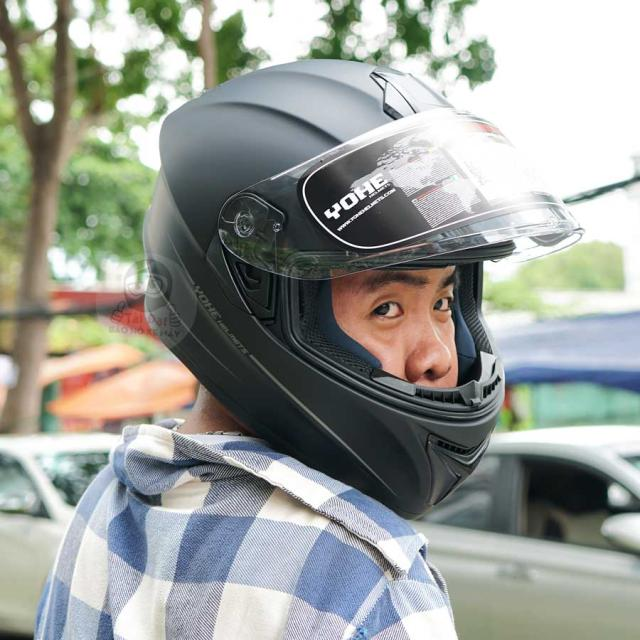helmet: (131, 47, 591, 530)
